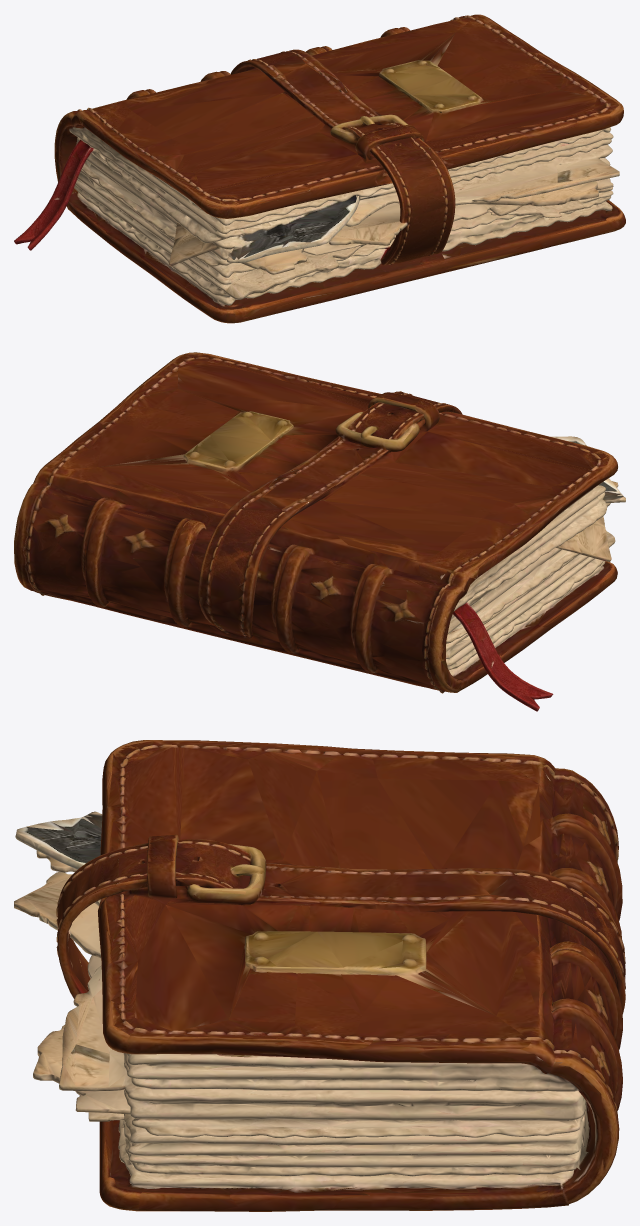
File: journal.glb
The picture shows the model from 3 angles, top to bottom: view 1: azimuth 30°, elevation 25°; view 2: azimuth 150°, elevation 25°; view 3: azimuth 270°, elevation 25°; orthographic projection. The views are drawn at different scales.
Parts seen in each view (by area): view 1: Mesh_0; view 2: Mesh_0; view 3: Mesh_0.
Part boxes in pixels (<box>): Mesh_0: <box>14,14,625,323</box>; Mesh_0: <box>14,352,625,711</box>; Mesh_0: <box>14,740,625,1211</box>.
Bounding box in the file's own units: 1 × 0.2869 × 0.747.
1 material, 1 textured.
